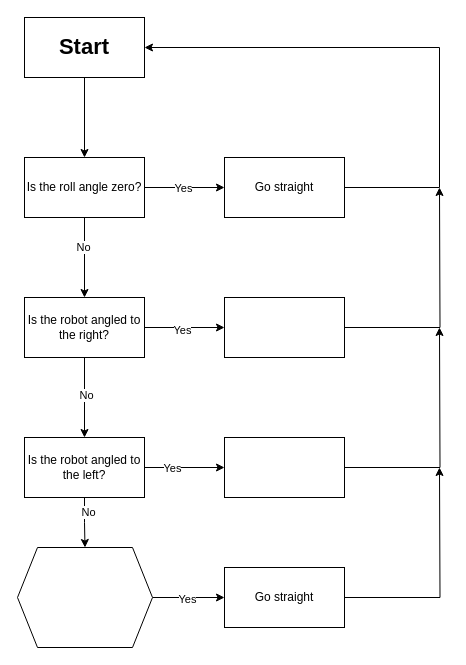
This 466x665 diagram has some shape labels left out. Each missing label, with the centre of its shape:
"Continue rotating left" goes at point 284,467.
"Continue rotating right" goes at point 284,327.
"Has the robot rotated back and forth 5 consecutive times?" goes at point 84,597.
